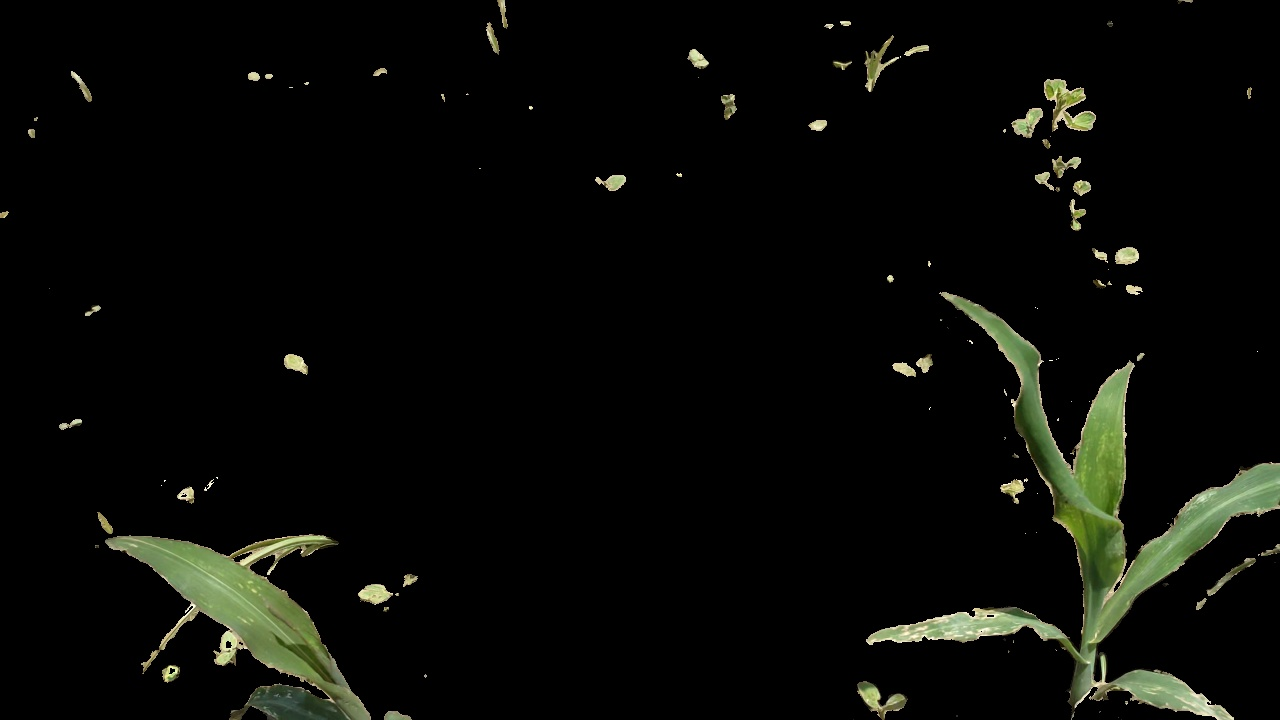crop: (922, 287, 1280, 720), (111, 528, 466, 720)
weed: (819, 25, 953, 99), (1016, 62, 1095, 145), (846, 671, 908, 720), (353, 565, 422, 607), (891, 351, 940, 386), (592, 167, 636, 205), (1088, 241, 1146, 269)
